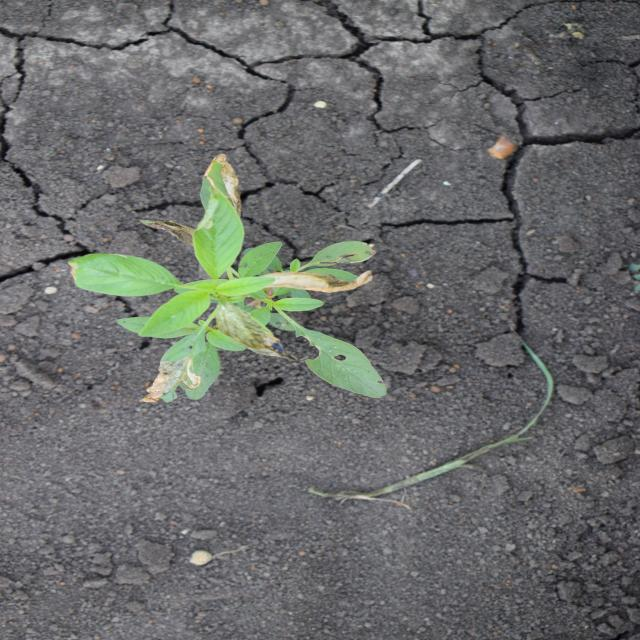Waterhemp: (64, 152, 392, 404)
